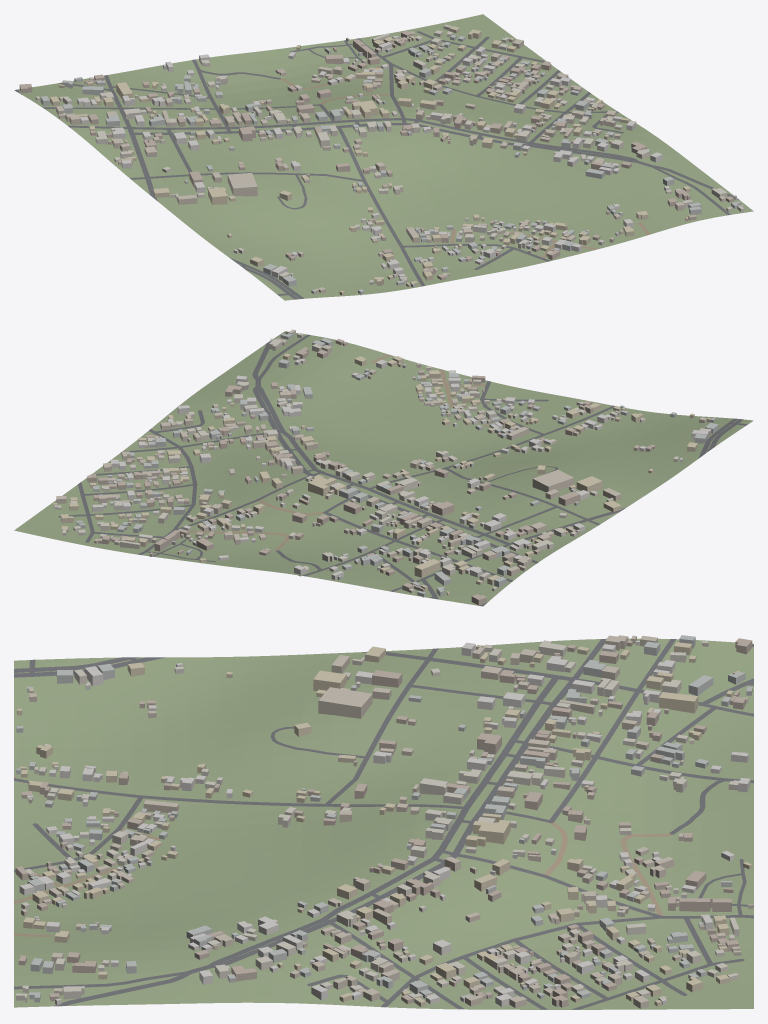
File: fatia.glb
3 views of the same model, one above another, from view 1: azimuth 30°, elevation 25°; view 2: azimuth 150°, elevation 25°; view 3: azimuth 270°, elevation 25° (orthographic). The views are drawn at different scales.
Visible parts, largest first — view 1: terreno-col, predios-col, ruas_paved-col, ruas_unpaved-col; view 2: terreno-col, predios-col, ruas_paved-col, ruas_unpaved-col; view 3: terreno-col, predios-col, ruas_paved-col, ruas_unpaved-col.
Part boxes in pixels (box(x1,y1,x2,y2)): terreno-col: box(16, 14, 753, 300); predios-col: box(19, 24, 744, 295); ruas_paved-col: box(14, 31, 739, 299); ruas_unpaved-col: box(280, 63, 650, 286); terreno-col: box(14, 331, 753, 606); predios-col: box(53, 329, 718, 605); ruas_paved-col: box(58, 334, 747, 606); ruas_unpaved-col: box(189, 354, 619, 550); terreno-col: box(14, 638, 753, 1009); predios-col: box(15, 635, 753, 1008); ruas_paved-col: box(14, 638, 753, 1009); ruas_unpaved-col: box(14, 775, 673, 936).
Size of the model in its own units: 800 by 77.39 by 800.
